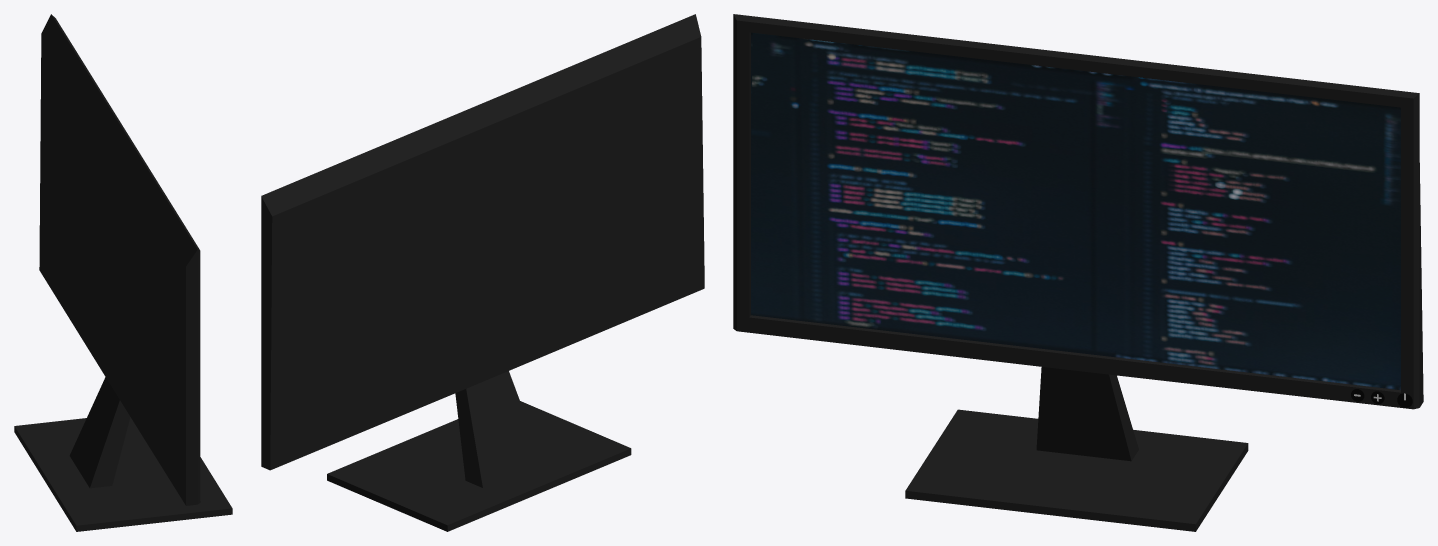
File: monitor2.glb
The picture shows the model from 3 angles, left to right: view 1: azimuth 30°, elevation 25°; view 2: azimuth 150°, elevation 25°; view 3: azimuth 270°, elevation 25°; orthographic projection. The views are drawn at different scales.
Visible parts, largest first — view 1: PC.001; view 2: PC.001; view 3: PC.001.
Boxes of the visible parts, x1,y1,x2,y2 form: PC.001: [14, 14, 232, 531]; PC.001: [261, 14, 704, 531]; PC.001: [733, 14, 1423, 531].
Size of the model in its own units: 1.25 by 2.14 by 3.18.
4 materials, 1 textured.
